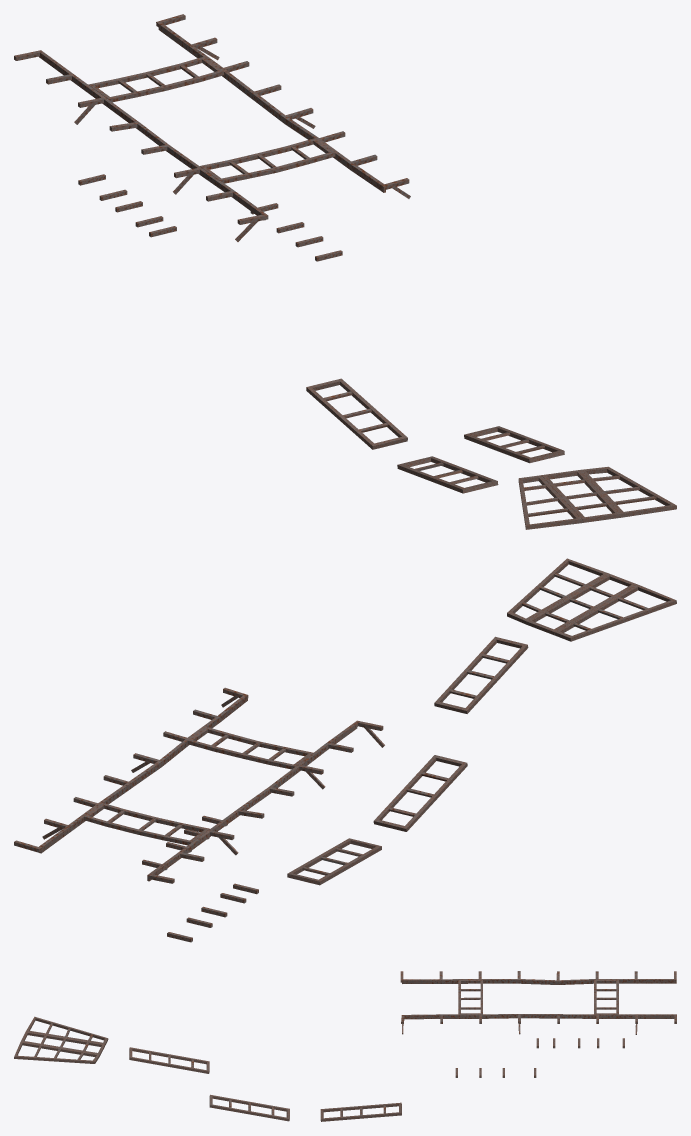
File: SM_NeoLD_00_Metal_00.fbx
The picture shows the model from 3 angles, top to bottom: view 1: azimuth 30°, elevation 25°; view 2: azimuth 150°, elevation 25°; view 3: azimuth 270°, elevation 25°; orthographic projection. The views are drawn at different scales.
Parts seen in each view (by area): view 1: SM_NeoLD_00_Metal_00; view 2: SM_NeoLD_00_Metal_00; view 3: SM_NeoLD_00_Metal_00.
Boxes of the visible parts, left/top/right/bottom form: SM_NeoLD_00_Metal_00: left=14, top=14, right=676, bottom=529; SM_NeoLD_00_Metal_00: left=14, top=558, right=676, bottom=942; SM_NeoLD_00_Metal_00: left=14, top=971, right=676, bottom=1121.
Size of the model in its own units: 1361 by 1371 by 6850.
